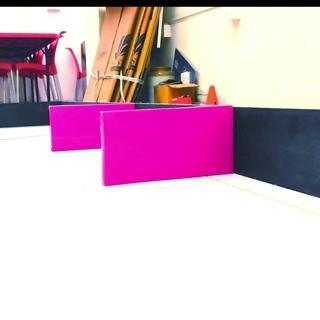xparking: (102, 110, 232, 178), (50, 104, 100, 151)
